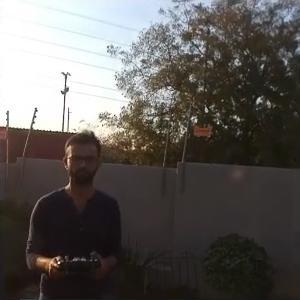follow: (19, 123, 124, 298)
